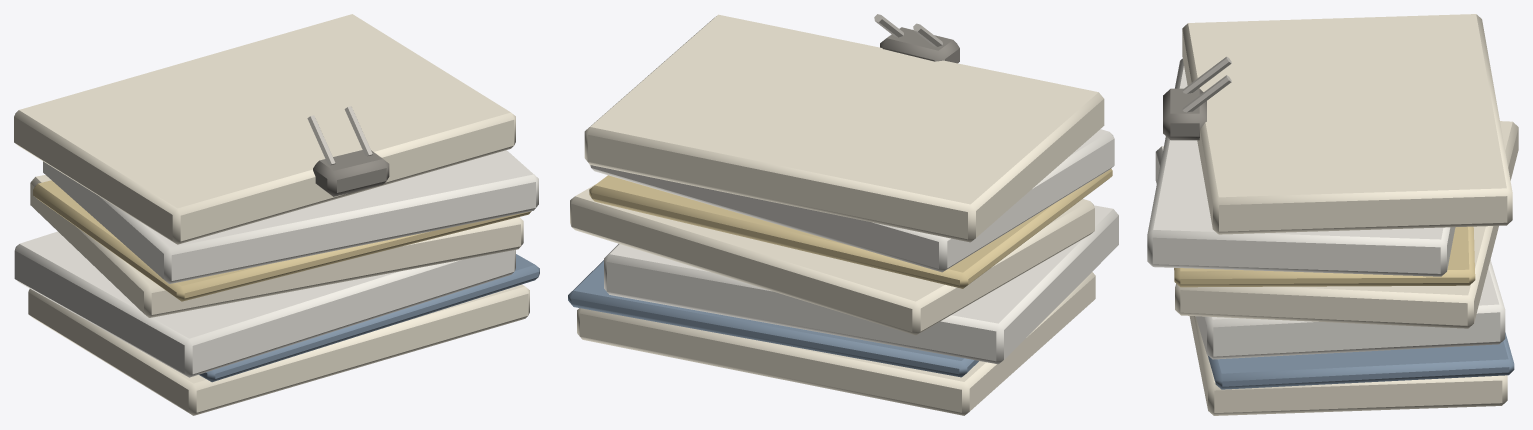
The model's file is paper_stack_tall.glb.
3 views of the same model, side by side, from view 1: azimuth 30°, elevation 25°; view 2: azimuth 150°, elevation 25°; view 3: azimuth 270°, elevation 25° (orthographic). The views are drawn at different scales.
Parts seen in each view (by area): view 1: paper, sheet, book_d, book_a, steel_dark, steel; view 2: paper, sheet, book_d, book_a, steel_dark, steel; view 3: paper, sheet, book_a, book_d, steel_dark, steel.
Boxes of the visible parts, x1,y1,x2,y2 form: paper: [14, 14, 529, 415]; sheet: [14, 150, 538, 377]; book_d: [33, 180, 531, 301]; book_a: [199, 254, 539, 382]; steel_dark: [313, 150, 389, 196]; steel: [307, 106, 372, 165]; paper: [570, 14, 1104, 415]; sheet: [589, 129, 1118, 364]; book_d: [589, 168, 1112, 288]; book_a: [568, 260, 978, 377]; steel_dark: [880, 27, 959, 63]; steel: [874, 14, 942, 46]; paper: [1175, 14, 1518, 415]; sheet: [1147, 58, 1505, 359]; book_a: [1207, 332, 1514, 389]; book_d: [1174, 226, 1475, 287]; steel_dark: [1163, 88, 1206, 140]; steel: [1182, 56, 1231, 112].
Size of the model in its own units: 0.335 by 0.192 by 0.2532.
